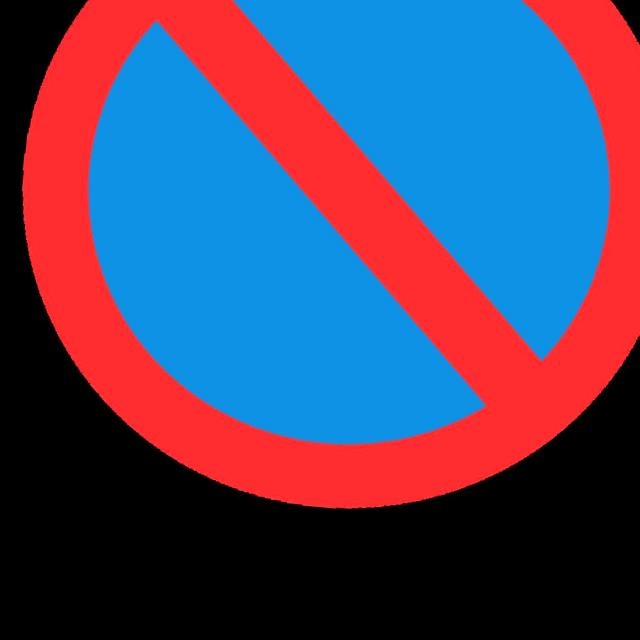forb_stopping: (26, 0, 640, 506)
